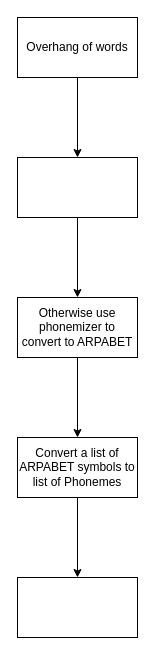
This 155x655 diagram has some shape labels left out. Here are the shapes that lost their labels. From the top down, the centre of each, then its label:
the point at 77,187: Use CMU dict to convert to phonemes
the point at 77,607: Pass list of Phonemes to Trie to tile
